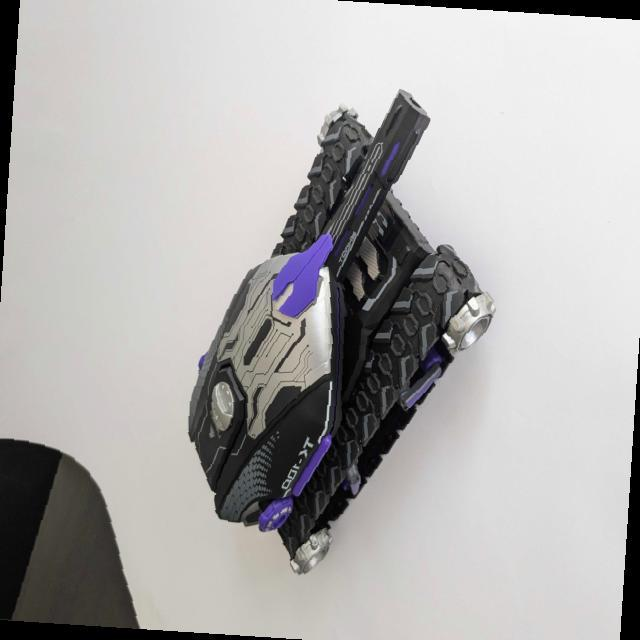barrel: (312, 88, 431, 280)
